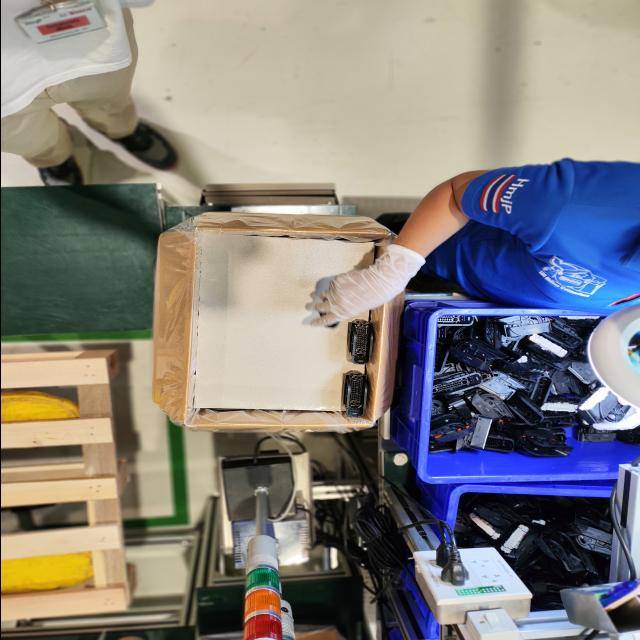P38: (341, 370, 366, 418), (346, 319, 372, 365)
